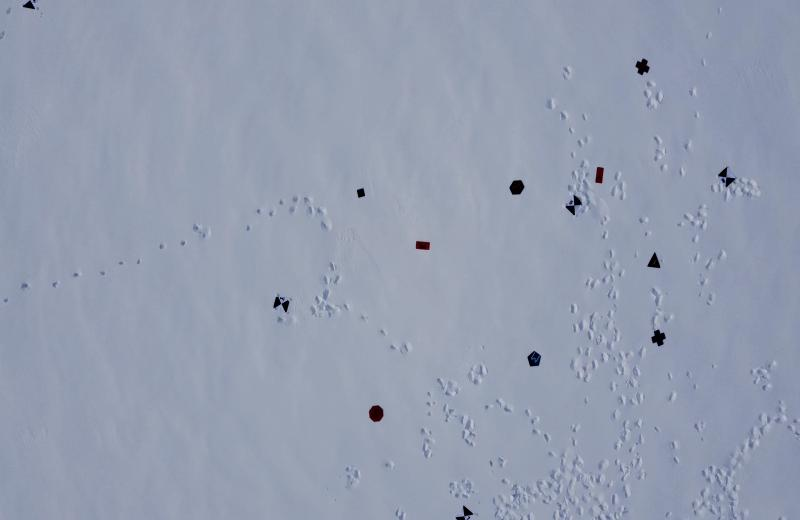Cross: (652, 328, 666, 348), (635, 58, 650, 75)
Hexagon: (509, 177, 525, 196)
Octagon: (367, 403, 385, 424)
Pentagon: (526, 349, 542, 368)
Rectangle: (595, 166, 606, 186), (414, 241, 430, 253)
Square: (356, 188, 366, 199)
Triangle: (646, 249, 662, 269)
